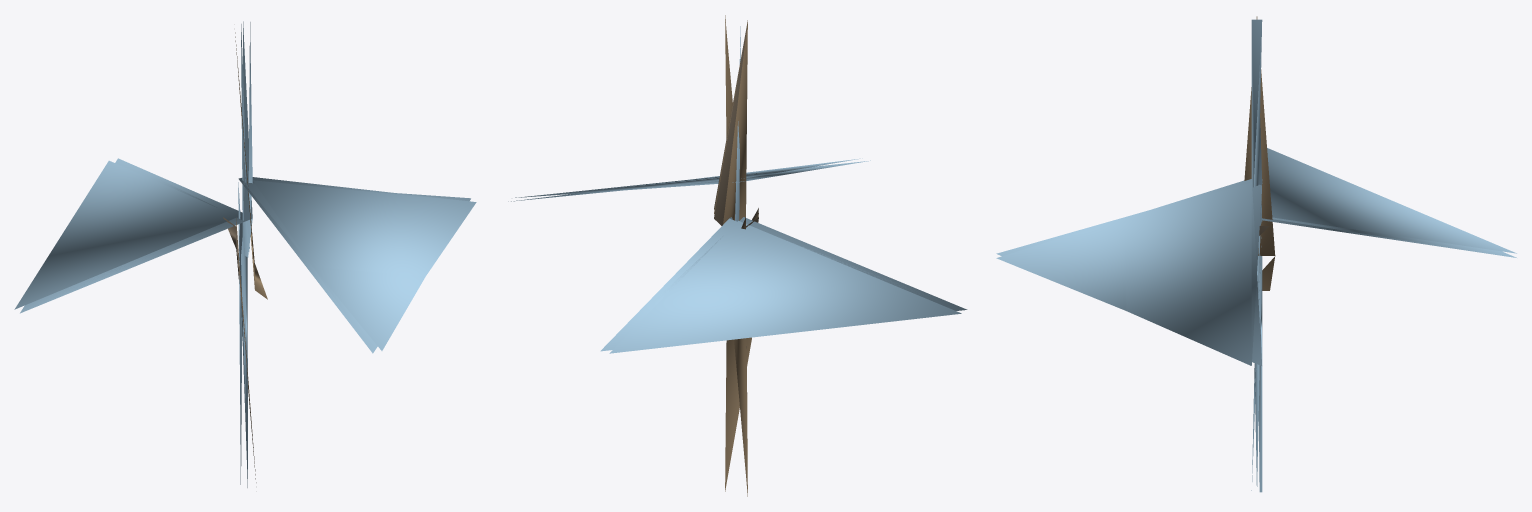
Rendered from equip_ammo_quiver_mithril.glb.
3 renders of one model, left to right at view 1: azimuth 30°, elevation 25°; view 2: azimuth 150°, elevation 25°; view 3: azimuth 270°, elevation 25°, orthographic.
Visible parts, largest first — view 1: equip_ammo_quiver_mithril; view 2: equip_ammo_quiver_mithril; view 3: equip_ammo_quiver_mithril.
Part boxes in pixels (x1,y1,x2,y2): equip_ammo_quiver_mithril: [14, 21, 476, 487]; equip_ammo_quiver_mithril: [508, 15, 967, 496]; equip_ammo_quiver_mithril: [996, 16, 1516, 492].
Size of the model in its own units: 2 by 2 by 2.
